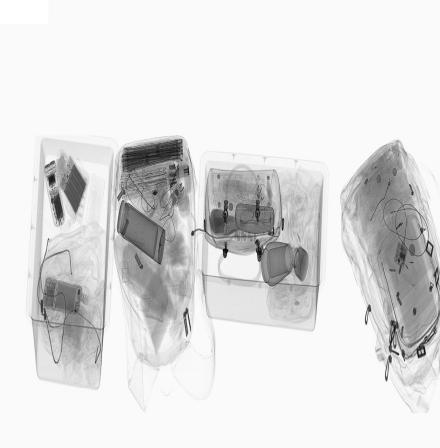Powerbank: (58, 158, 87, 216)
